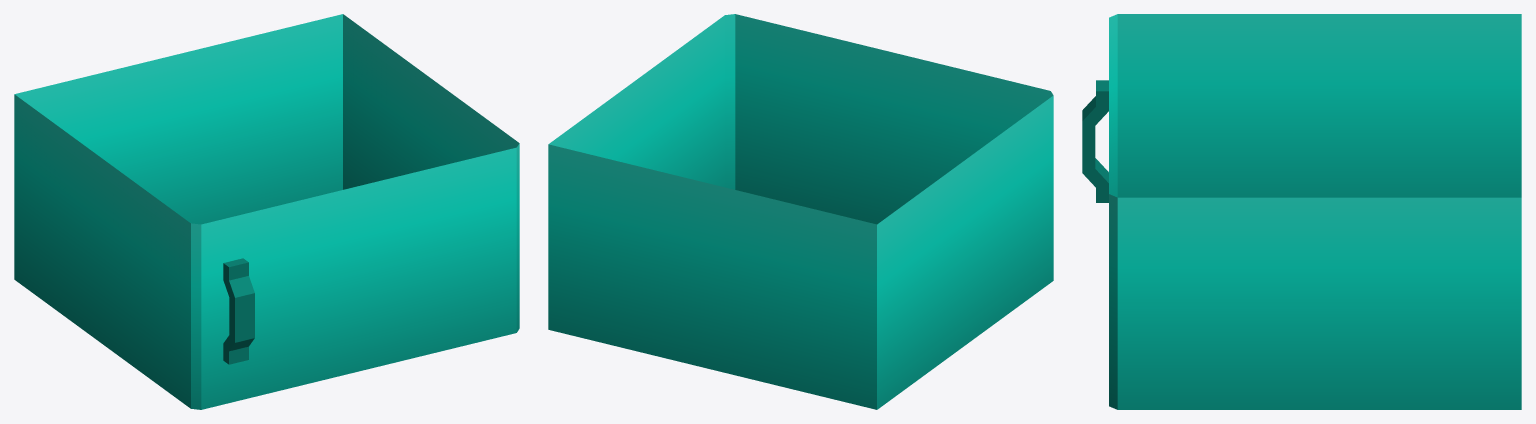
Rendered from Counter_01_v04_C05.fbx.
The picture shows the model from 3 angles, left to right: view 1: azimuth 30°, elevation 25°; view 2: azimuth 150°, elevation 25°; view 3: azimuth 270°, elevation 25°; orthographic projection. The views are drawn at different scales.
Visible parts, largest first — view 1: Counter_01_v04_C05; view 2: Counter_01_v04_C05; view 3: Counter_01_v04_C05.
Part boxes in pixels (x1,y1,x2,y2): Counter_01_v04_C05: [14, 14, 519, 409]; Counter_01_v04_C05: [548, 14, 1053, 409]; Counter_01_v04_C05: [1082, 14, 1521, 409].
Size of the model in its own units: 100 by 53.91 by 101.
